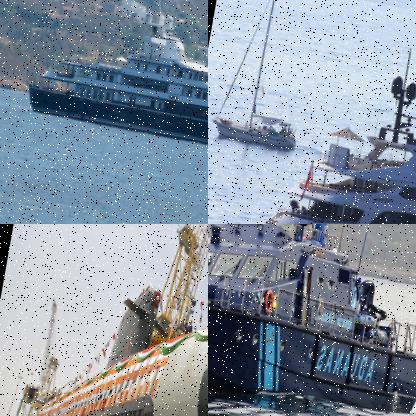Patrol Boat: (208, 224, 415, 415)
Sails Boat: (208, 0, 325, 152)
Submarine: (21, 270, 207, 415)
Yacht: (250, 25, 415, 223), (24, 0, 207, 168)
